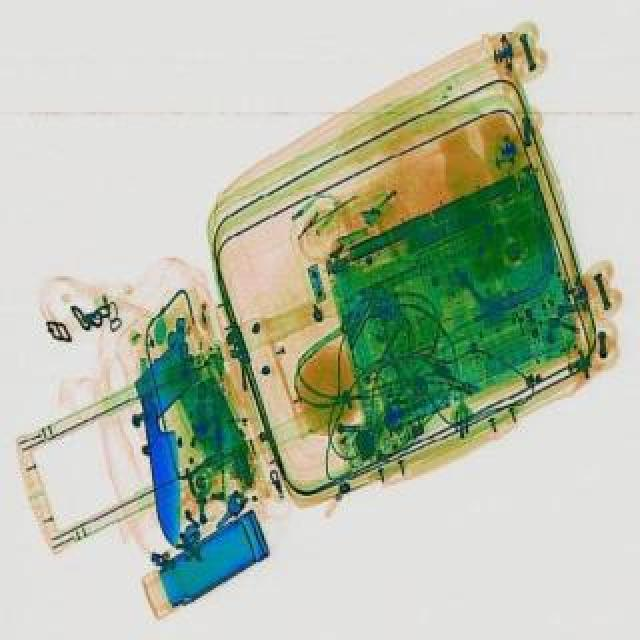knife: (134, 354, 190, 548)
